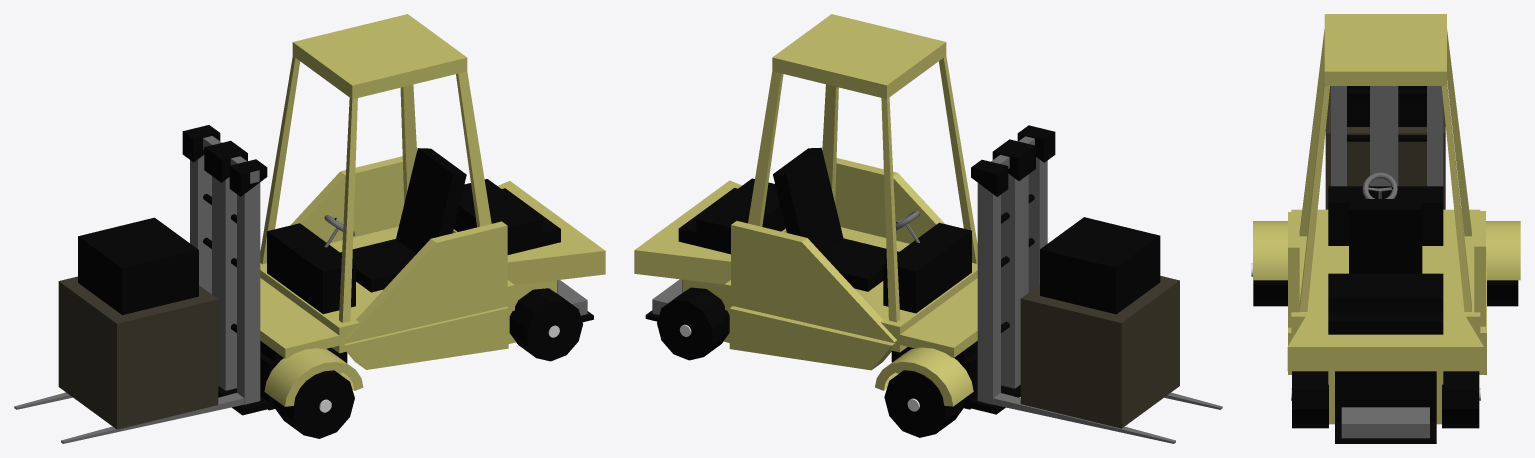
The model's file is forklift.fbx.
3 renders of one model, left to right at view 1: azimuth 30°, elevation 25°; view 2: azimuth 150°, elevation 25°; view 3: azimuth 270°, elevation 25°, orthographic. The views are drawn at different scales.
Visible parts, largest first — view 1: box, pCube3, pCube8, box1, pCube12, pCube9, pCube19, pCube27, pCube5, pCube18, pCube1, pCylinder21 (+12 smaller); view 2: box, pCube3, pCube9, box1, pCube11, pCube8, pCube17, pCube27, pCube18, pCube5, pCube1, pCylinder22 (+12 smaller); view 3: pCube3, pCube1, pCube5, pCube2, pCube7, pCube31, box, pCube27, pCube33, pCube18, pCube6, pCylinder22 (+17 smaller).
Part boxes in pixels (x1,y1,x2,y2): box: [58, 276, 218, 429]; pCube3: [260, 14, 491, 322]; pCube8: [342, 221, 507, 342]; box1: [78, 217, 198, 314]; pCube12: [344, 306, 508, 369]; pCube9: [290, 156, 404, 242]; pCube19: [237, 182, 260, 404]; pCube27: [267, 223, 355, 314]; pCube5: [396, 148, 466, 253]; pCube18: [212, 176, 236, 390]; pCube1: [453, 181, 605, 285]; pCylinder21: [509, 288, 582, 361]; box: [1020, 276, 1179, 428]; pCube3: [748, 14, 977, 322]; pCube9: [731, 221, 896, 342]; box1: [1040, 217, 1160, 314]; pCube11: [729, 306, 894, 370]; pCube8: [835, 158, 944, 243]; pCube17: [977, 183, 1000, 404]; pCube27: [883, 222, 971, 313]; pCube18: [1001, 173, 1028, 388]; pCube5: [773, 147, 843, 253]; pCube1: [634, 180, 786, 284]; pCylinder22: [657, 287, 729, 360]; pCube3: [1299, 14, 1471, 311]; pCube1: [1287, 300, 1483, 371]; pCube5: [1349, 199, 1422, 273]; pCube2: [1291, 228, 1480, 340]; pCube7: [1328, 273, 1443, 312]; pCube31: [1335, 371, 1436, 421]; box: [1325, 86, 1445, 209]; pCube27: [1328, 186, 1443, 245]; pCube33: [1341, 407, 1429, 438]; pCube18: [1370, 86, 1398, 186]; pCube6: [1328, 312, 1443, 334]; pCylinder22: [1442, 371, 1479, 428].
Bounding box in the file's own units: 5.24 × 2.94 × 2.24.
